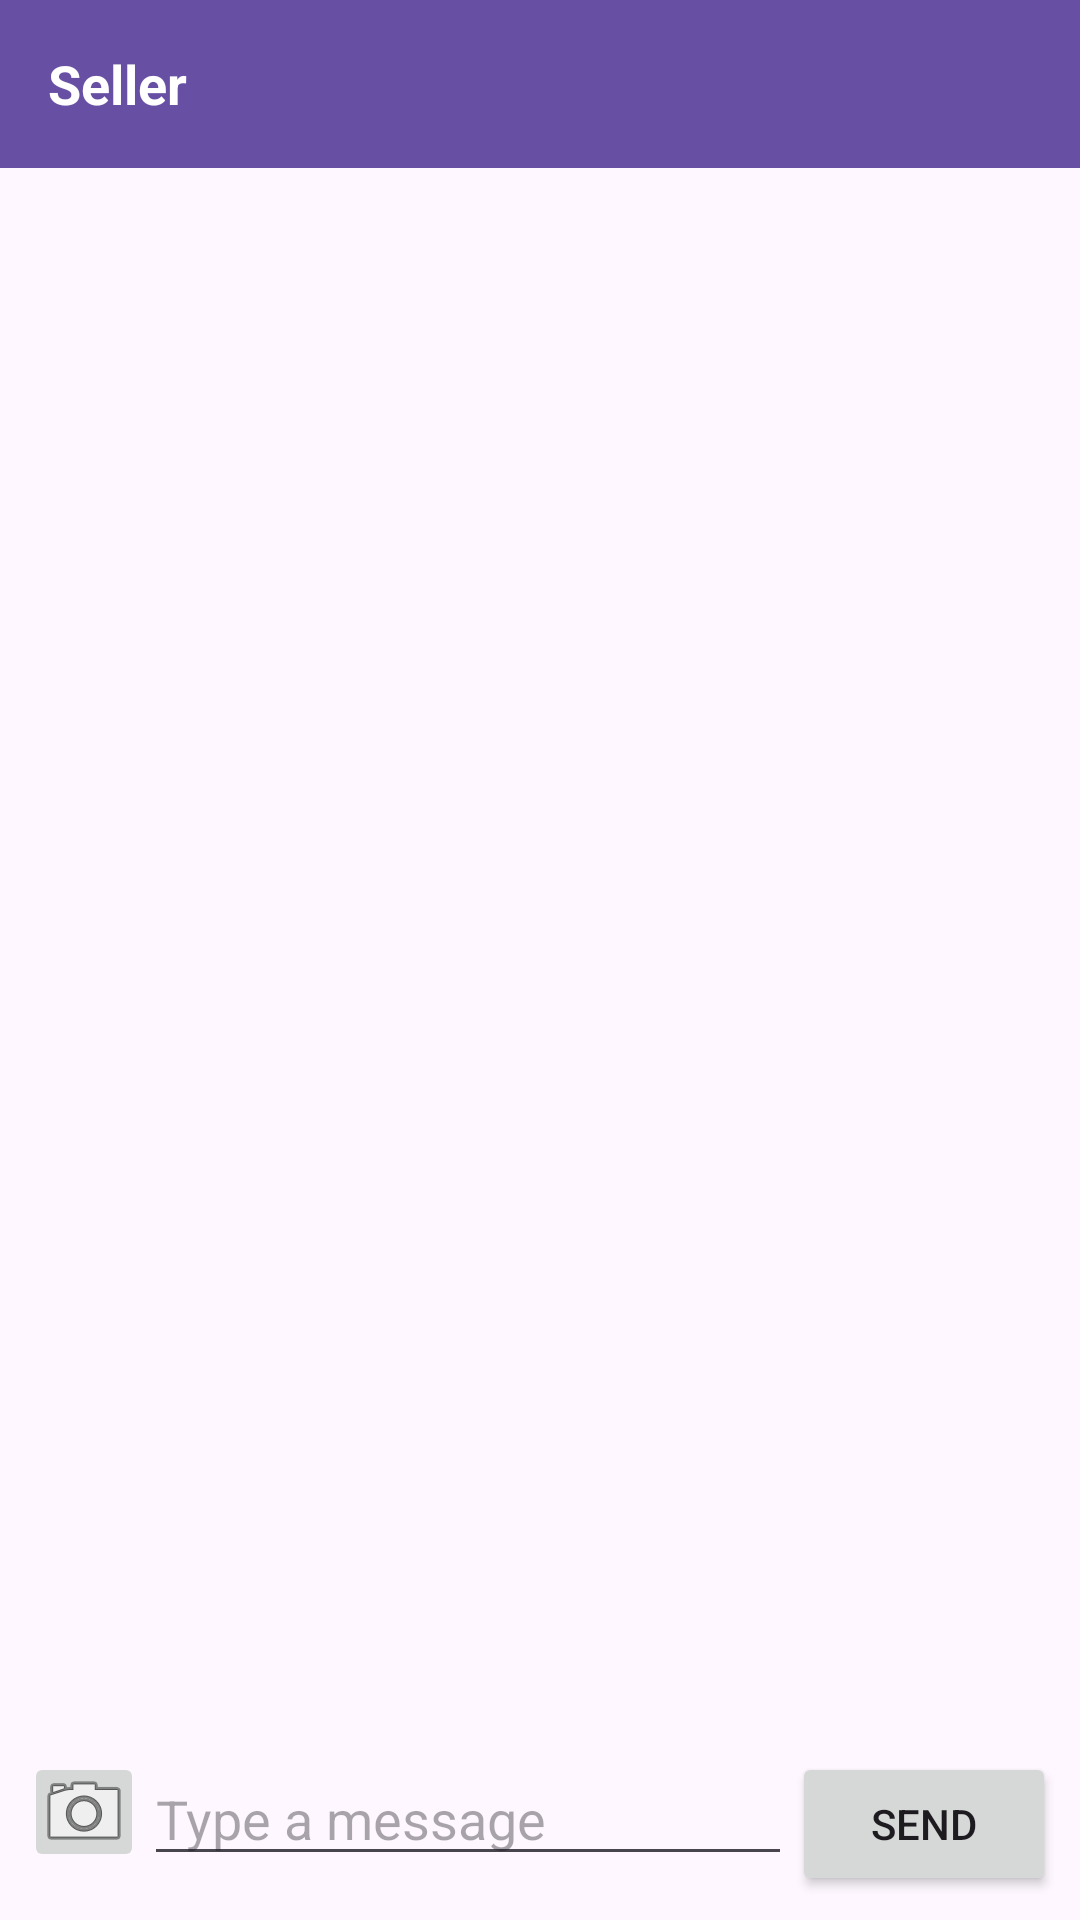

Locate icon controls on the screen. Image size 1080x1920, boxes as [left=x1, top=y1, right=x2, bottom=y2].
Send image: [left=36, top=1770, right=132, bottom=1854]
